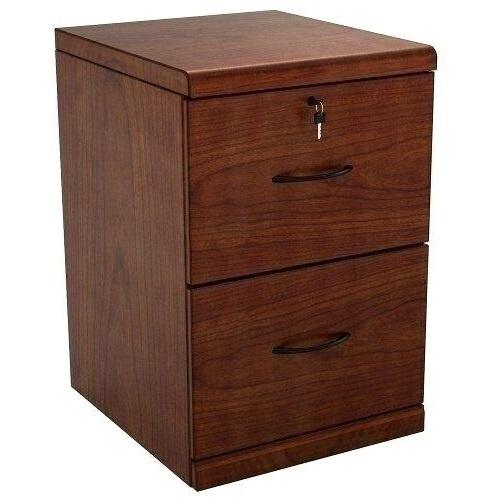cabinet_door: (192, 81, 431, 269), (195, 264, 427, 429)
handle: (269, 161, 352, 190), (270, 337, 348, 364)
